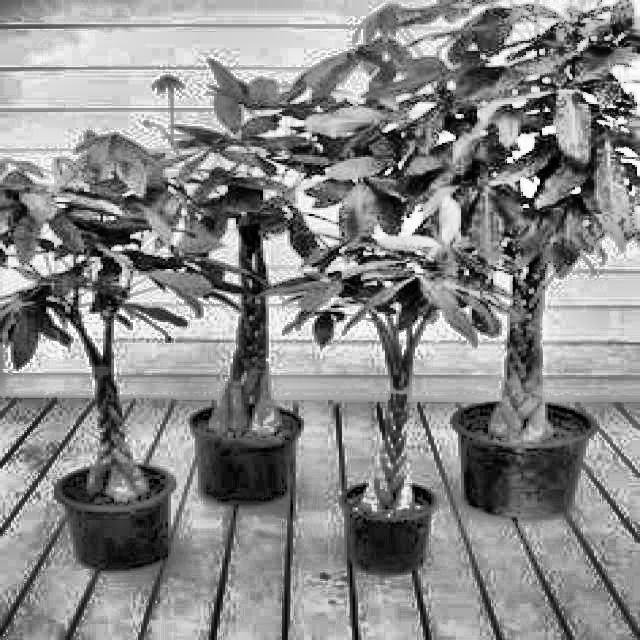plants: (344, 0, 636, 430), (272, 66, 538, 504), (0, 126, 234, 496), (142, 56, 372, 423)
